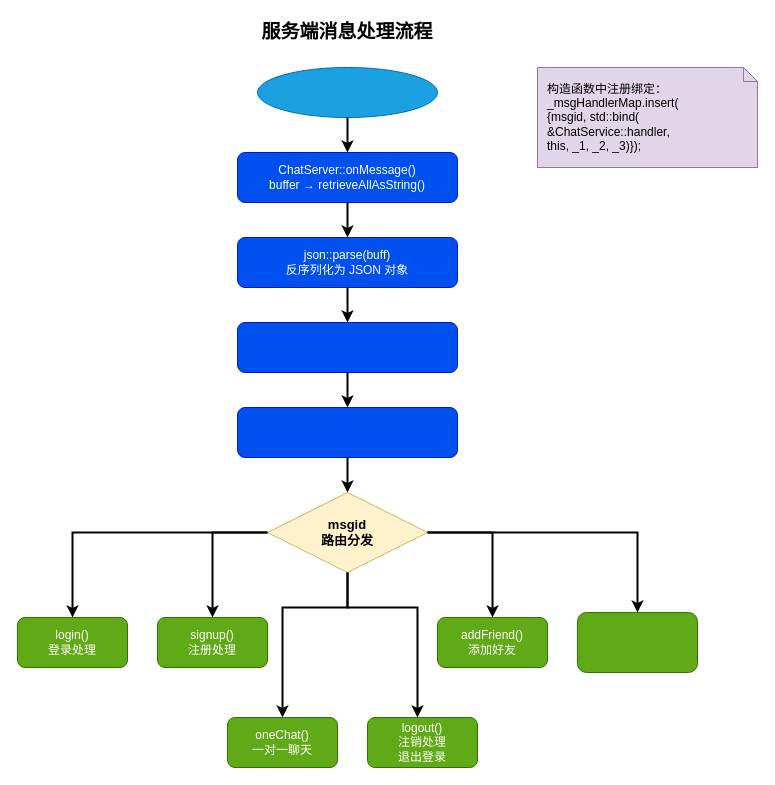
Some shapes in this 775 by 785 pixel diagram are drawn without their labels. The shapes that lost their labels are listed below. From the top down, each one's centre as x and y in pixels, then its label:
point (347, 92): 客户端发送 JSON 消息
point (347, 347): 提取 js["msgid"] 获取消息类型
point (347, 432): ChatService::getHandler(msgid) 查找 _msgHandlerMap
point (637, 642): createGroup() joinGroup() groupChat() 群组相关
